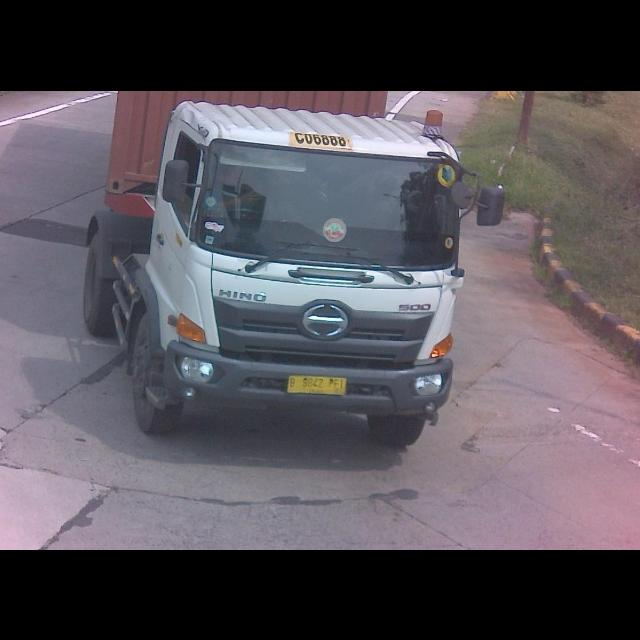plate: (287, 372, 349, 397)
